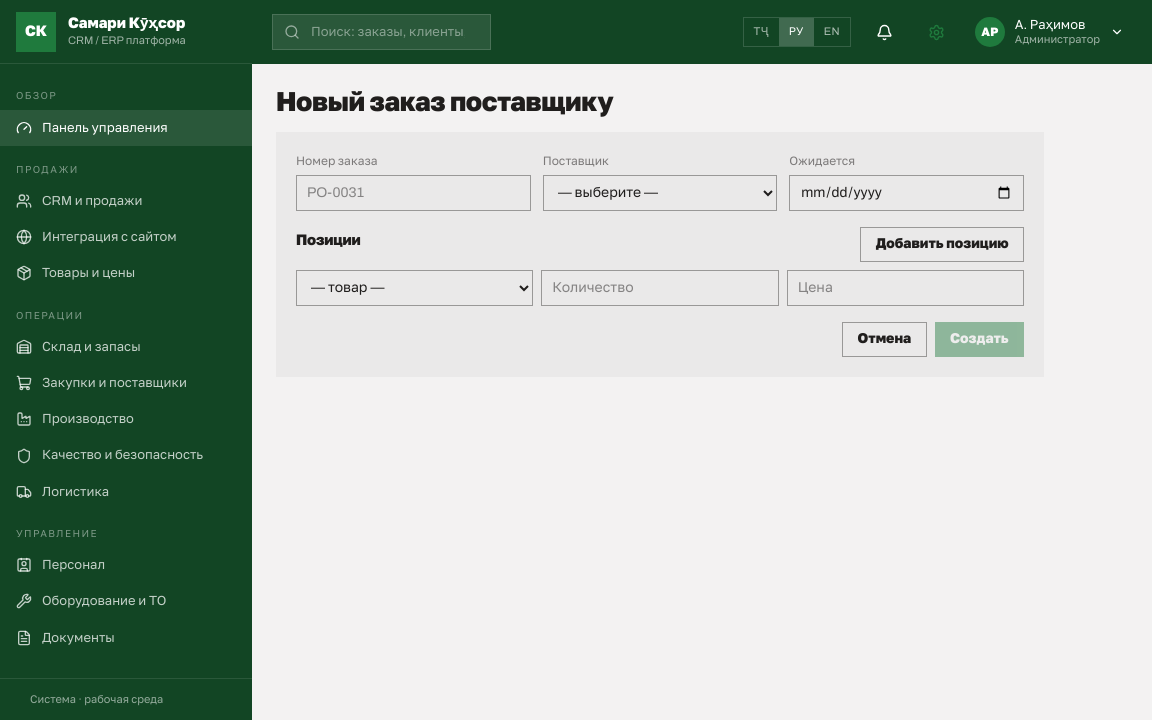
Новый заказ поставщику › adds a second line
Expected: the element with test id "po-form" is shown, [276, 132, 1044, 376]
Expected: the number of elements with test id "po-line" is 1, [296, 270, 1024, 306]
Click the button with test id "add-line": (942,244) [860, 227, 1024, 262]
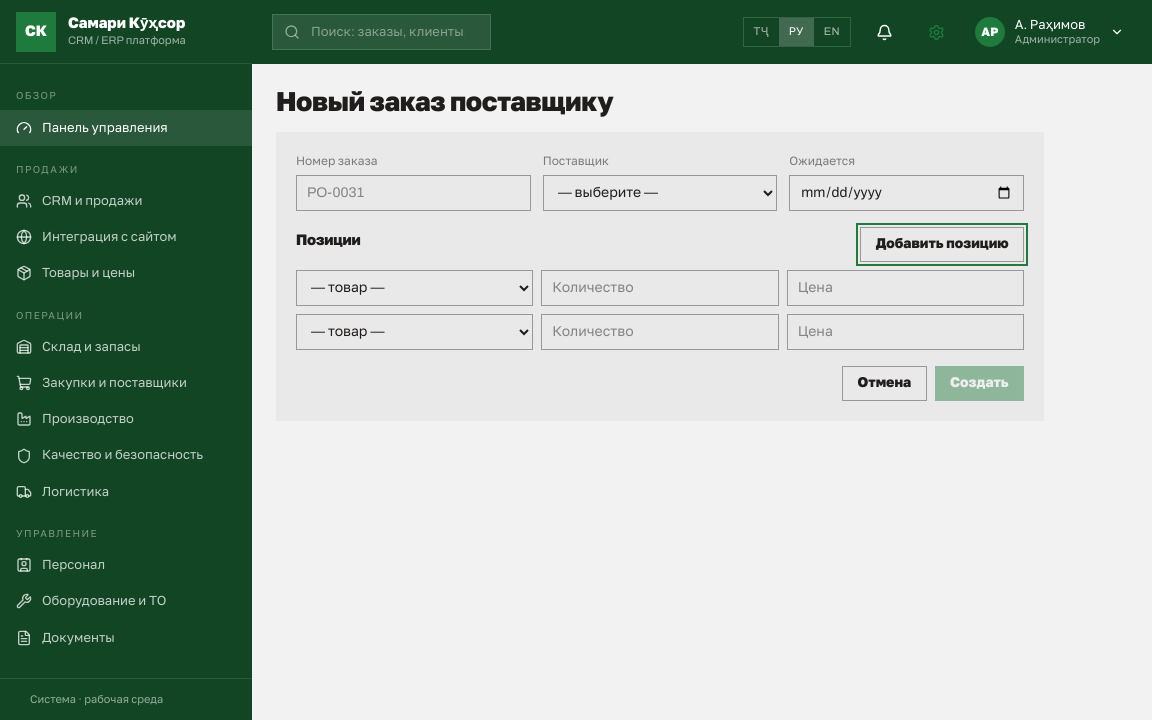
Now the number of elements with test id "po-line" is 2, box [296, 270, 1024, 306]; [296, 314, 1024, 350]
